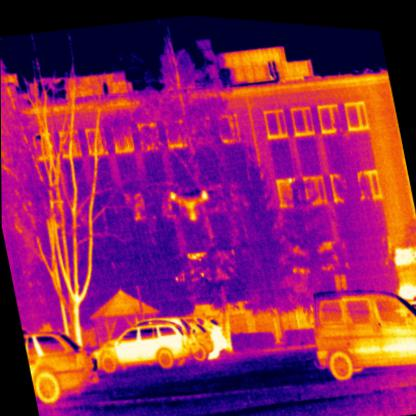drone: (168, 182, 211, 220)
vehicle: (302, 262, 415, 385), (88, 310, 193, 379)
